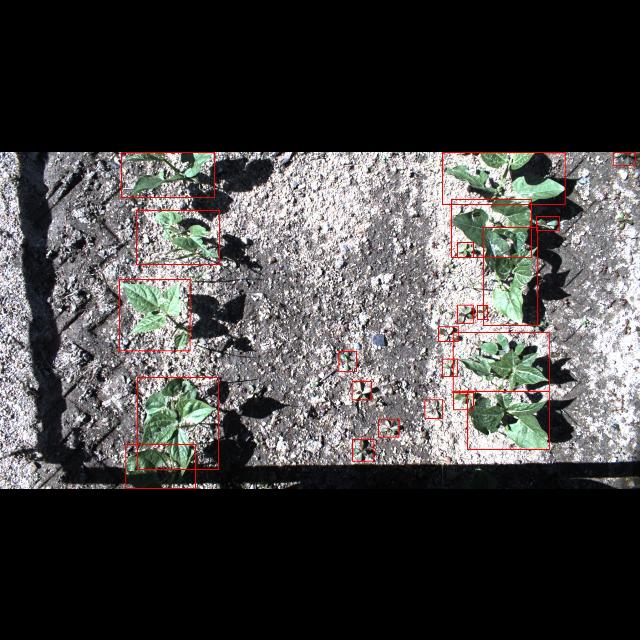crop: (138, 377, 218, 469), (443, 151, 565, 203), (453, 332, 549, 391), (484, 227, 538, 326), (120, 280, 190, 350), (136, 208, 220, 264), (451, 198, 531, 256), (468, 391, 548, 449), (121, 152, 215, 196), (126, 444, 196, 488)
weed: (352, 439, 373, 461), (352, 380, 372, 400), (339, 351, 357, 372), (453, 392, 473, 410), (424, 399, 442, 418), (379, 419, 399, 436), (536, 216, 560, 230), (438, 326, 458, 342), (614, 151, 636, 165), (457, 304, 473, 322), (442, 358, 458, 376), (457, 242, 473, 256), (478, 305, 488, 319)
